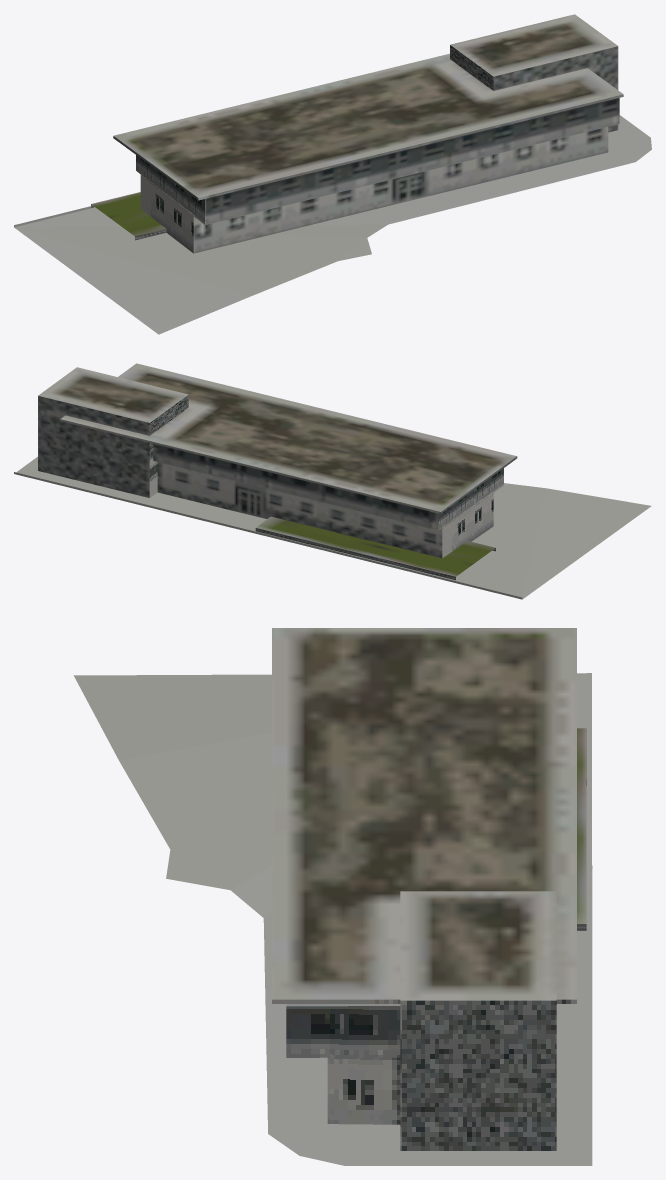
The model's file is lodgaz11_law.obj.
3 renders of one model, top to bottom at view 1: azimuth 30°, elevation 25°; view 2: azimuth 150°, elevation 25°; view 3: azimuth 270°, elevation 25°, orthographic. The views are drawn at different scales.
Parts seen in each view (by area): view 1: LODgaz11_law; view 2: LODgaz11_law; view 3: LODgaz11_law.
Boxes of the visible parts, box(x1,y1,x2,y2) form: LODgaz11_law: box(14, 14, 651, 334); LODgaz11_law: box(14, 363, 651, 599); LODgaz11_law: box(73, 628, 592, 1165).
Bounding box in the file's own units: 57.75 × 8.49 × 25.52.
Materials: 6 (4 with a texture image).
